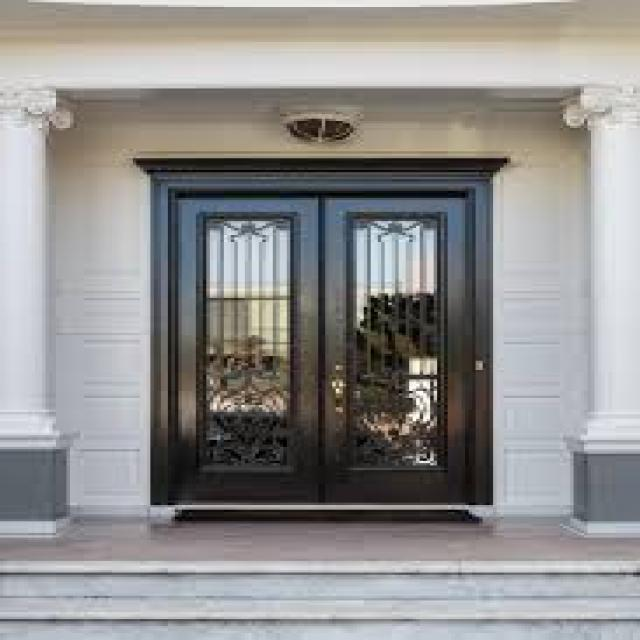doorhandle: (155, 166, 481, 514)
